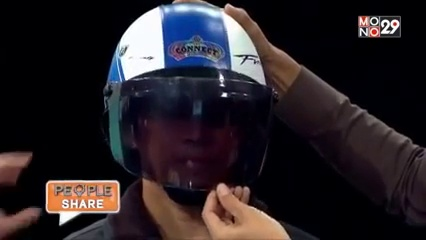helmet: (99, 4, 272, 189)
